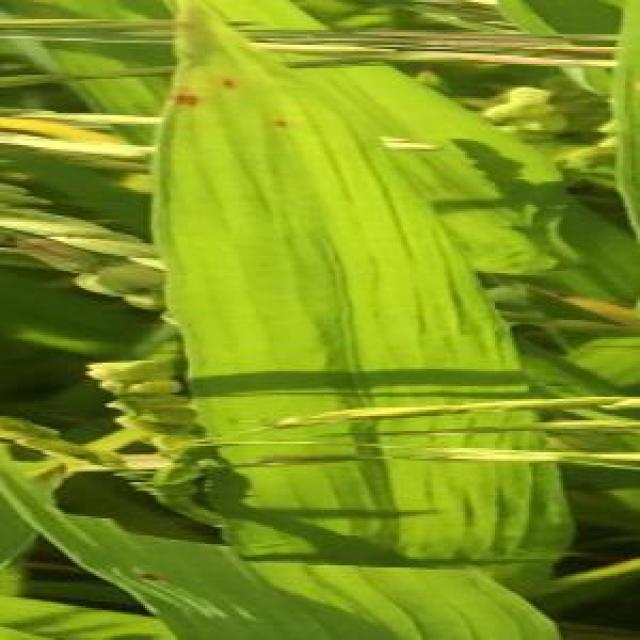Brown_Spot: (267, 110, 294, 140), (174, 90, 198, 108), (220, 74, 237, 90)
